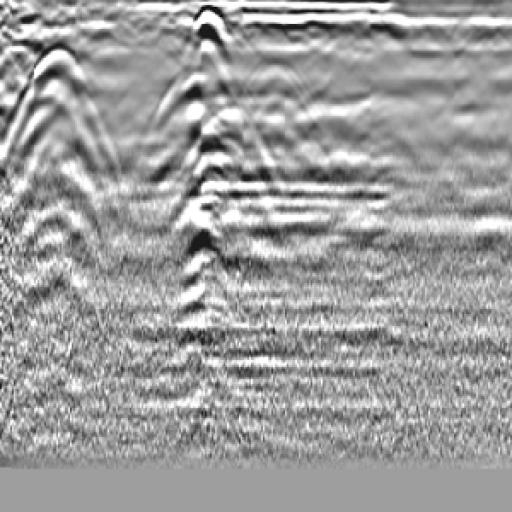metalic: (169, 5, 260, 356)
nonmetalic: (1, 36, 132, 209), (248, 55, 345, 199)
